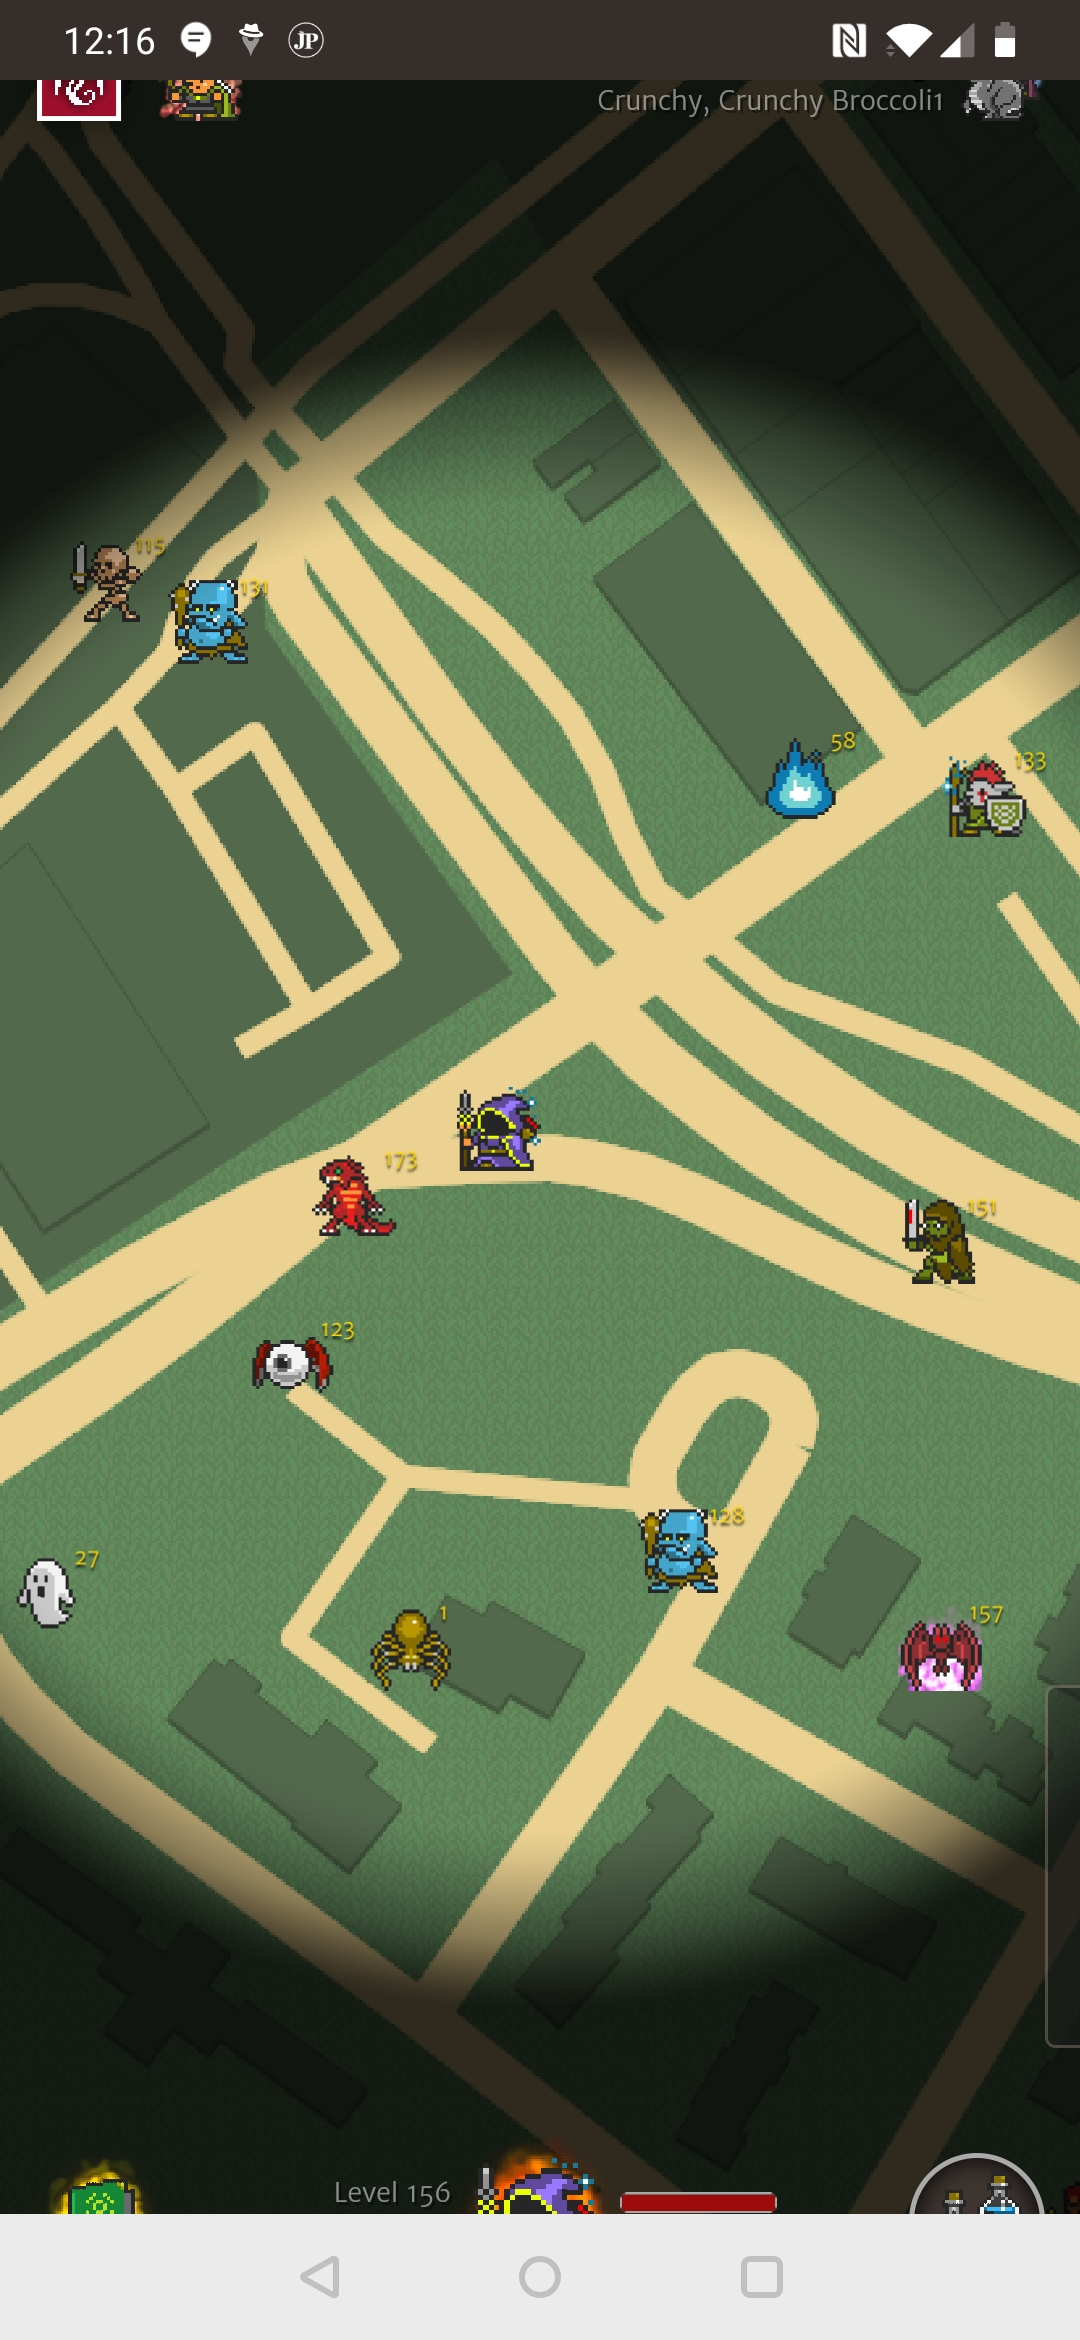monster: (919, 740, 1060, 861), (736, 716, 867, 837), (295, 1144, 426, 1261), (881, 1589, 1008, 1702), (219, 1323, 367, 1413), (1, 1523, 112, 1638), (46, 527, 174, 623), (163, 575, 284, 671), (632, 1499, 750, 1596), (905, 1189, 995, 1302), (363, 1602, 460, 1682)
player: (436, 1082, 546, 1189)
